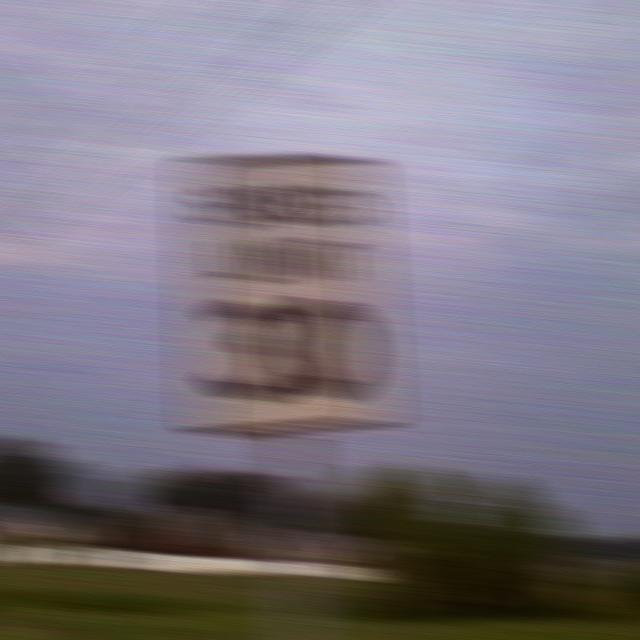speedLimit30: (185, 146, 388, 433)
